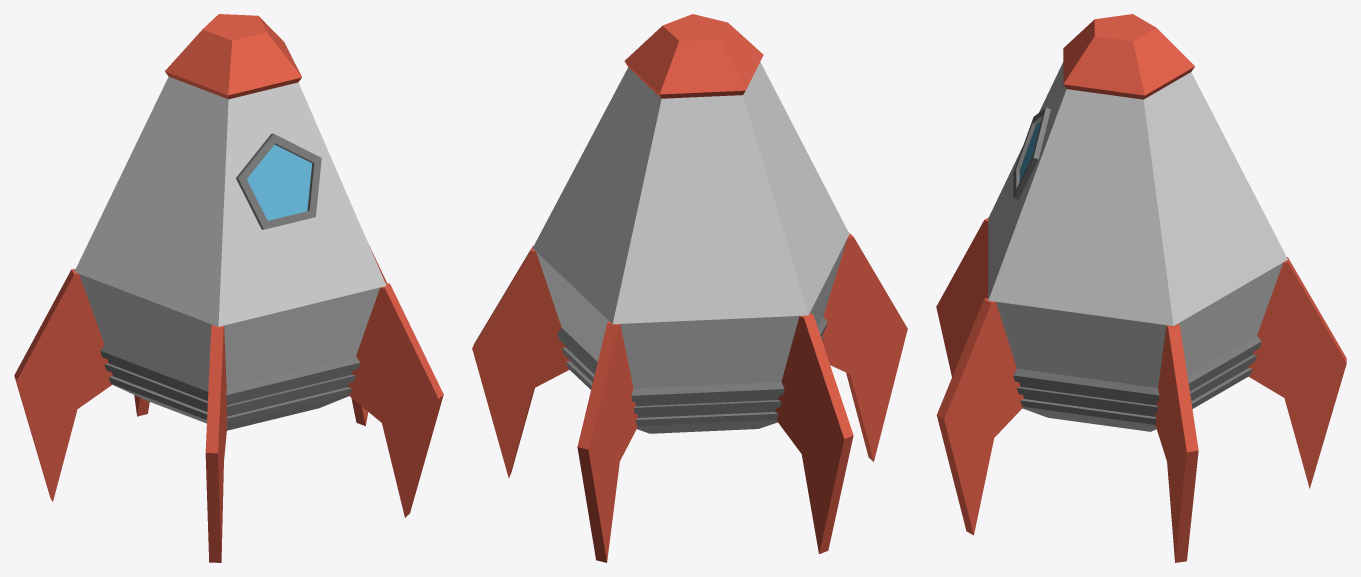
Rendered from Rocket.glb.
The picture shows the model from 3 angles, left to right: view 1: azimuth 30°, elevation 25°; view 2: azimuth 150°, elevation 25°; view 3: azimuth 270°, elevation 25°; orthographic projection.
Visible parts, largest first — view 1: RocketFusalage; view 2: RocketFusalage; view 3: RocketFusalage.
Boxes of the visible parts, x1,y1,x2,y2 form: RocketFusalage: [14, 14, 443, 562]; RocketFusalage: [472, 14, 907, 562]; RocketFusalage: [936, 14, 1346, 562].
Bounding box in the file's own units: 3.46 × 4.04 × 3.28.
